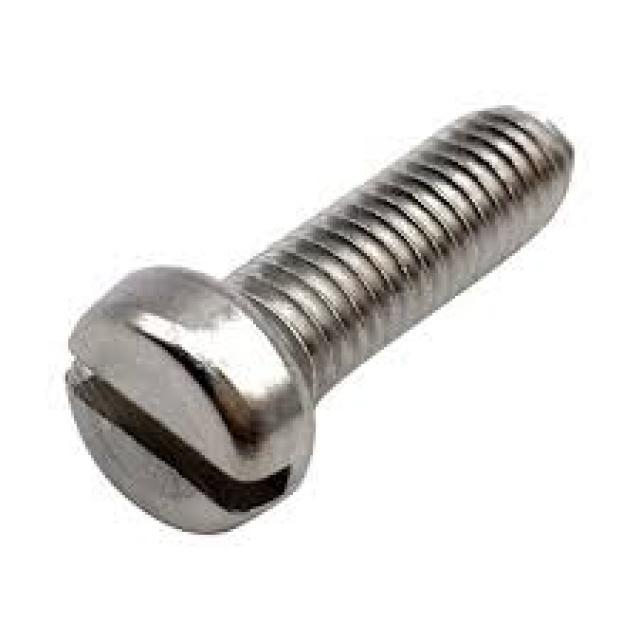Screw: (63, 105, 580, 538)
